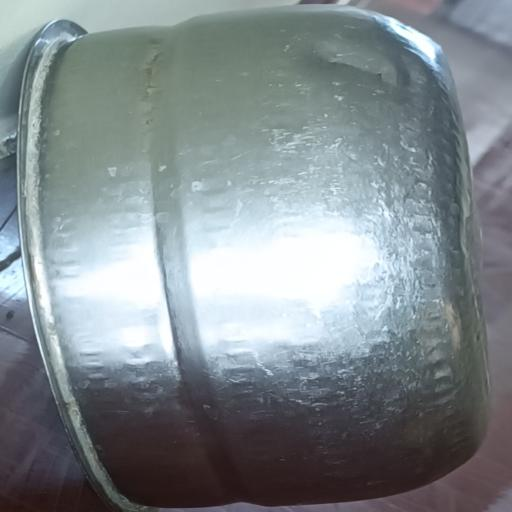vessel: (19, 6, 487, 510)
